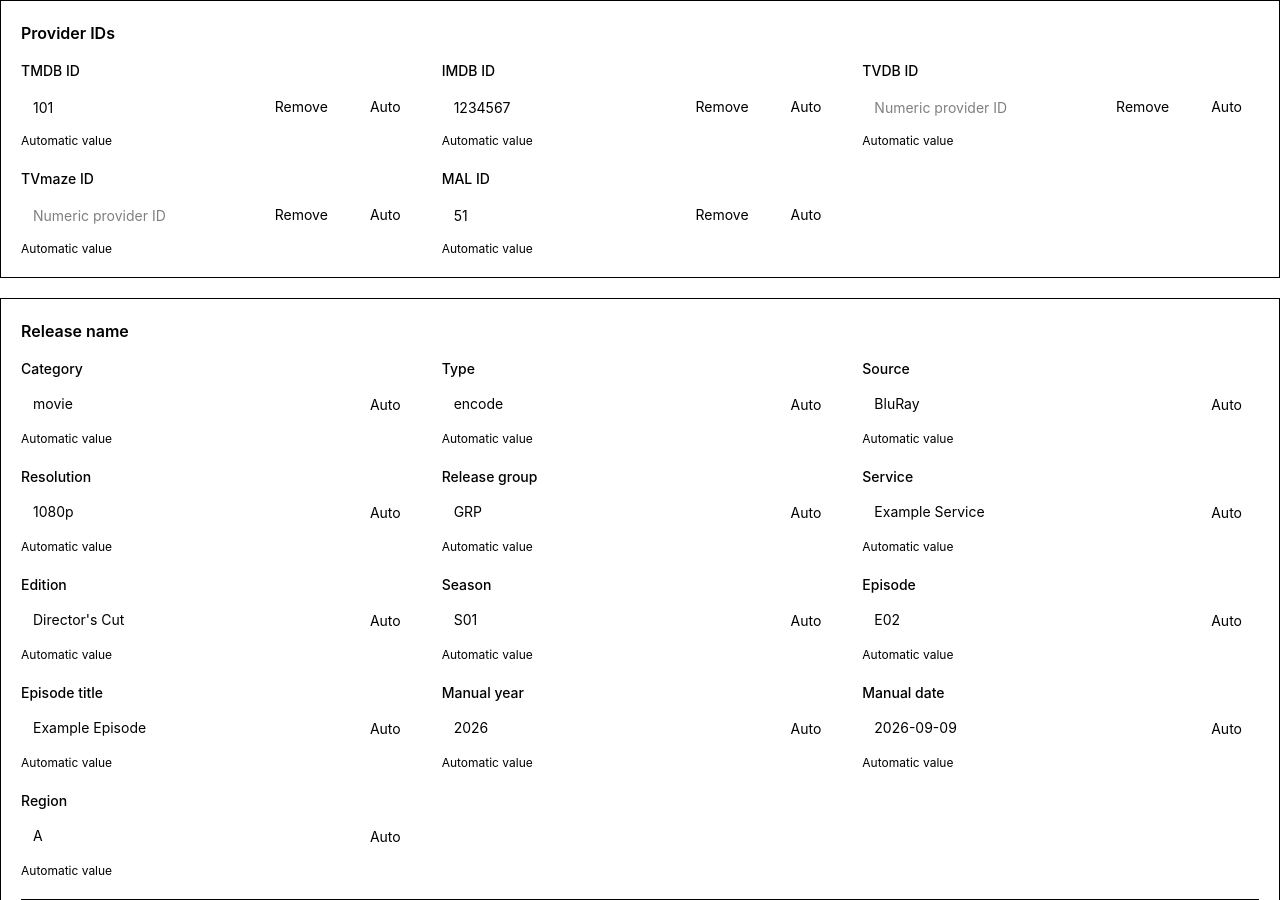
Test case: InputPage › resets an invalid provider draft on every Auto click without resetting another field
Replace the text in the field labelled "IMDB ID" with "keep-invalid". click: [556, 107]
box: [442, 89, 670, 125]
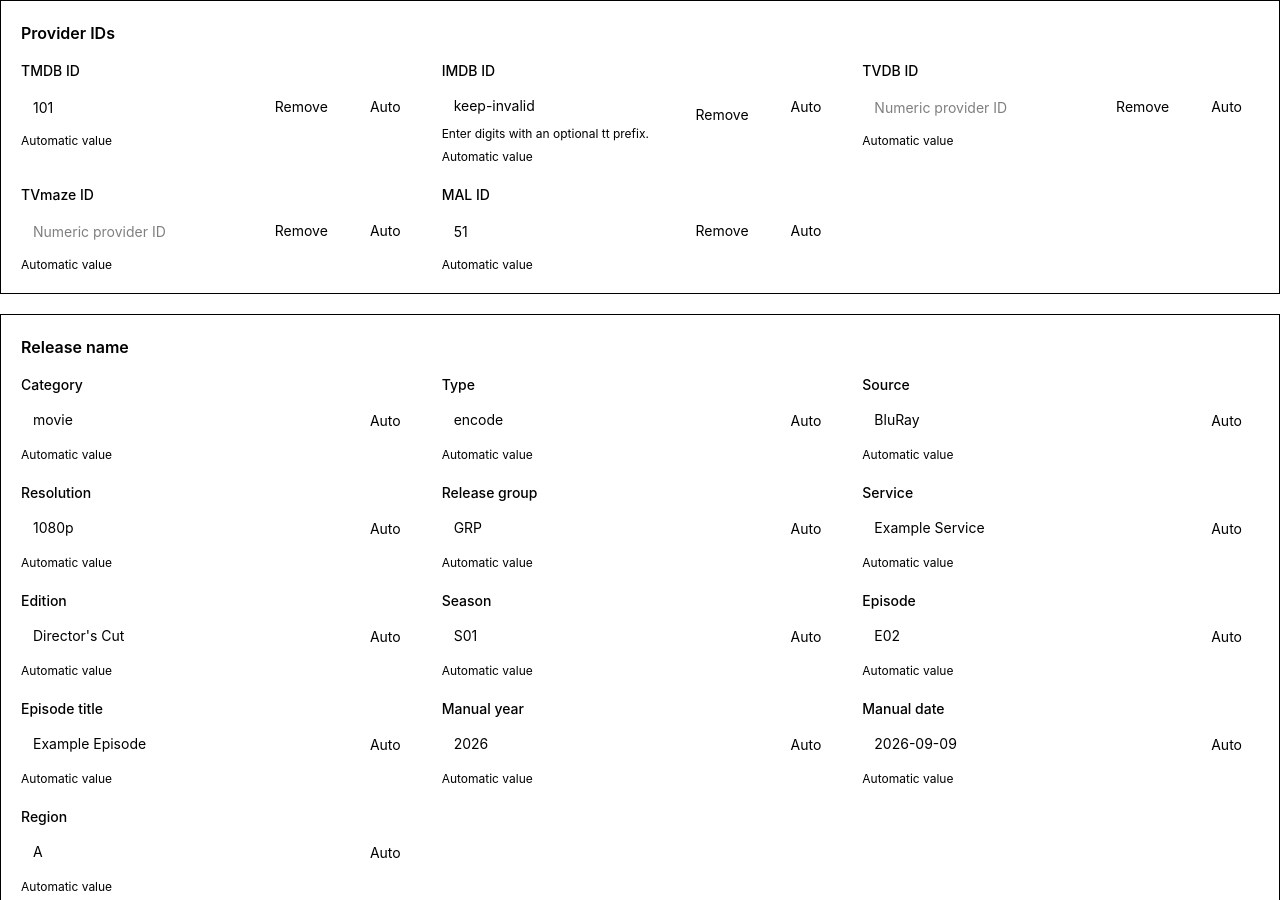
Replace the text in the field labelled "TMDB ID" with "invalid". click: [135, 107]
box: [21, 89, 250, 125]
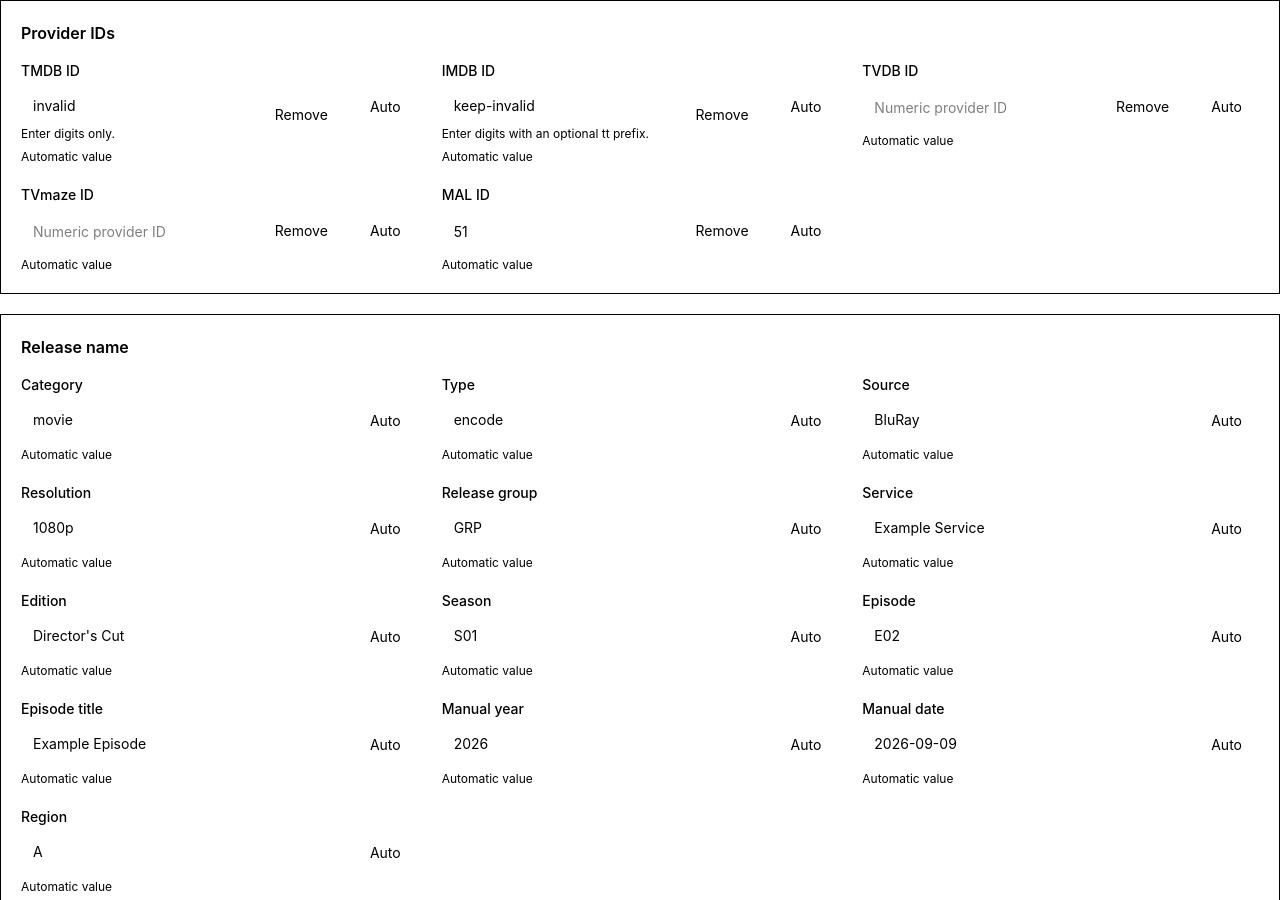
Click the button with aria-label "Auto TMDB ID". click: [385, 107]
box: [353, 87, 418, 127]
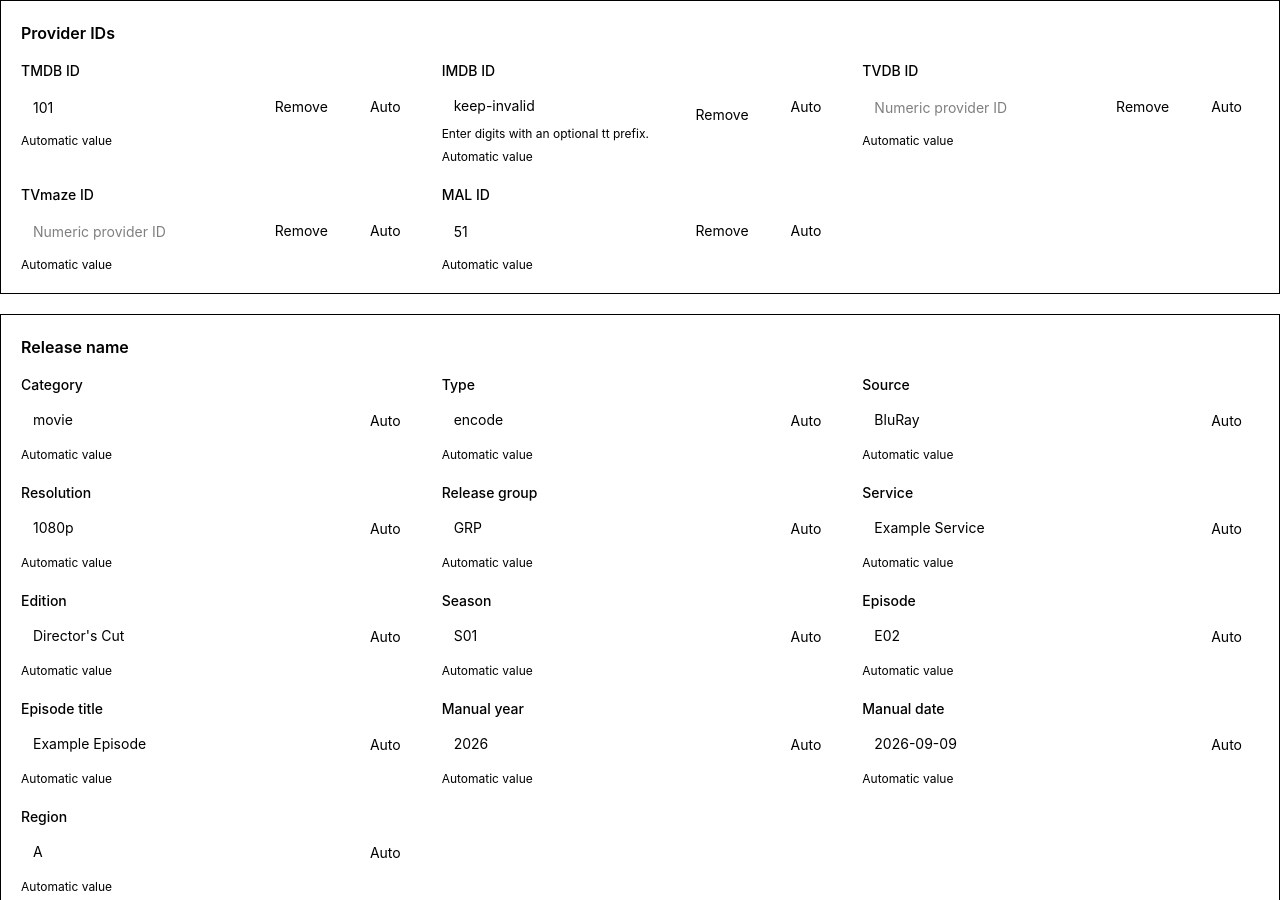
Expected: the field labelled "TMDB ID" holds "101"
Replace the text in the field labelled "TMDB ID" with "invalid-again". click: [135, 107]
box: [21, 89, 250, 125]
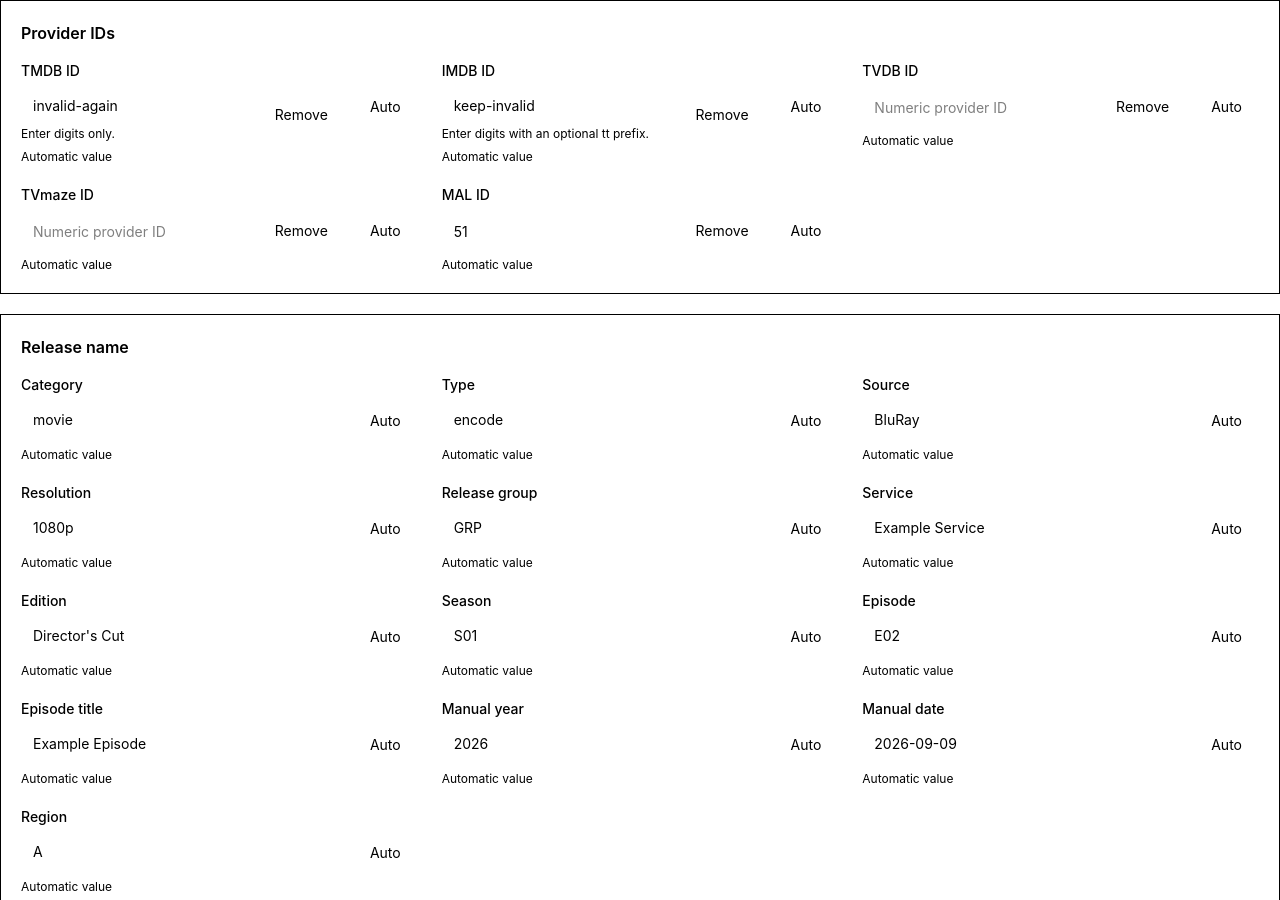
Click the button with aria-label "Auto TMDB ID". click: [385, 107]
box: [353, 87, 418, 127]
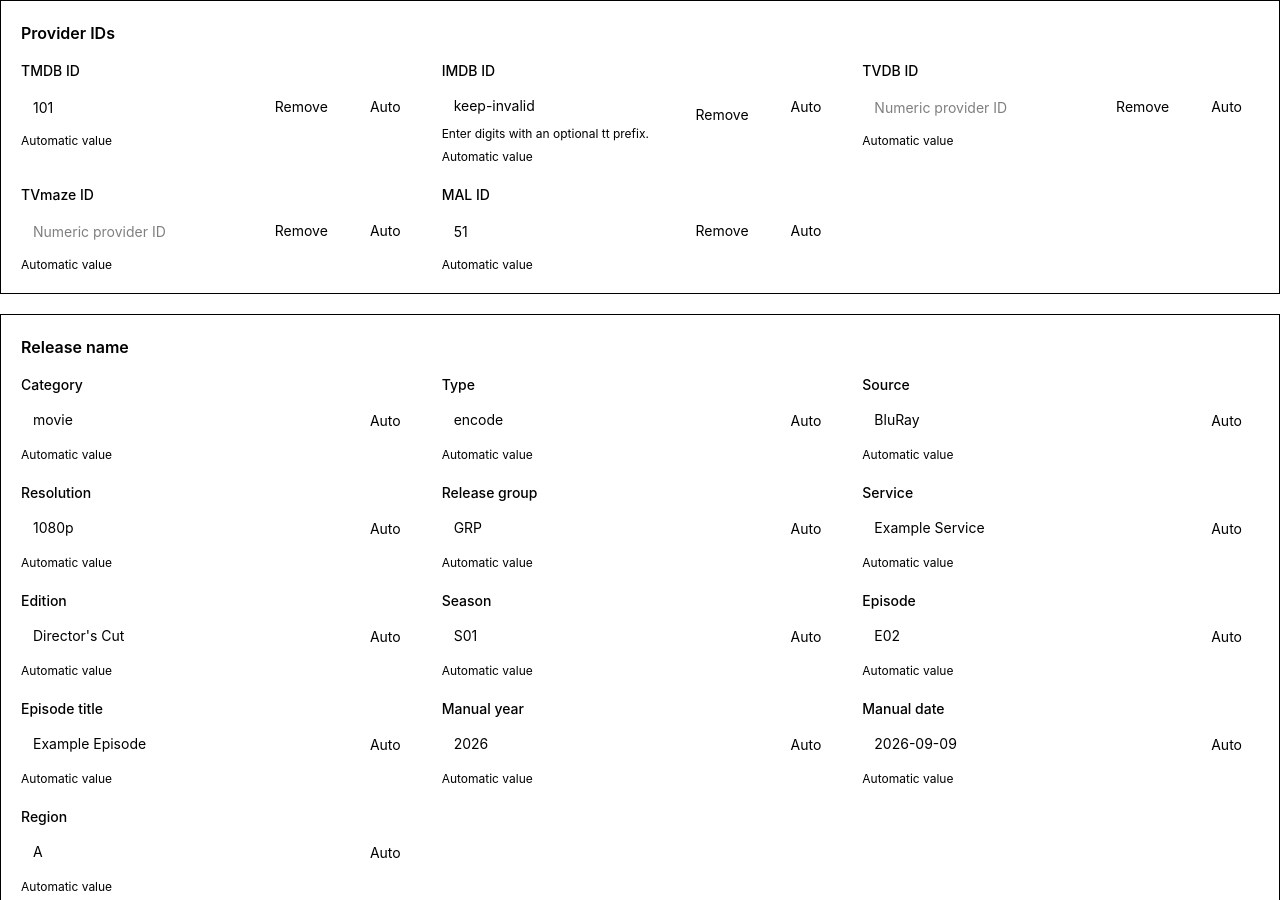
Expected: the field labelled "TMDB ID" holds "101", [21, 89, 250, 125]
